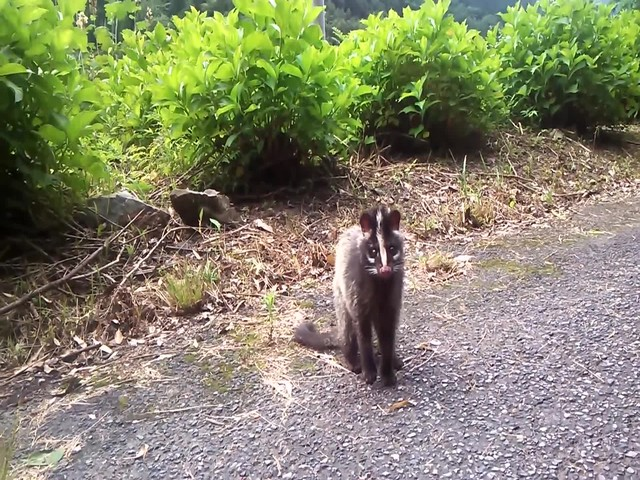civet: (291, 203, 427, 389)
